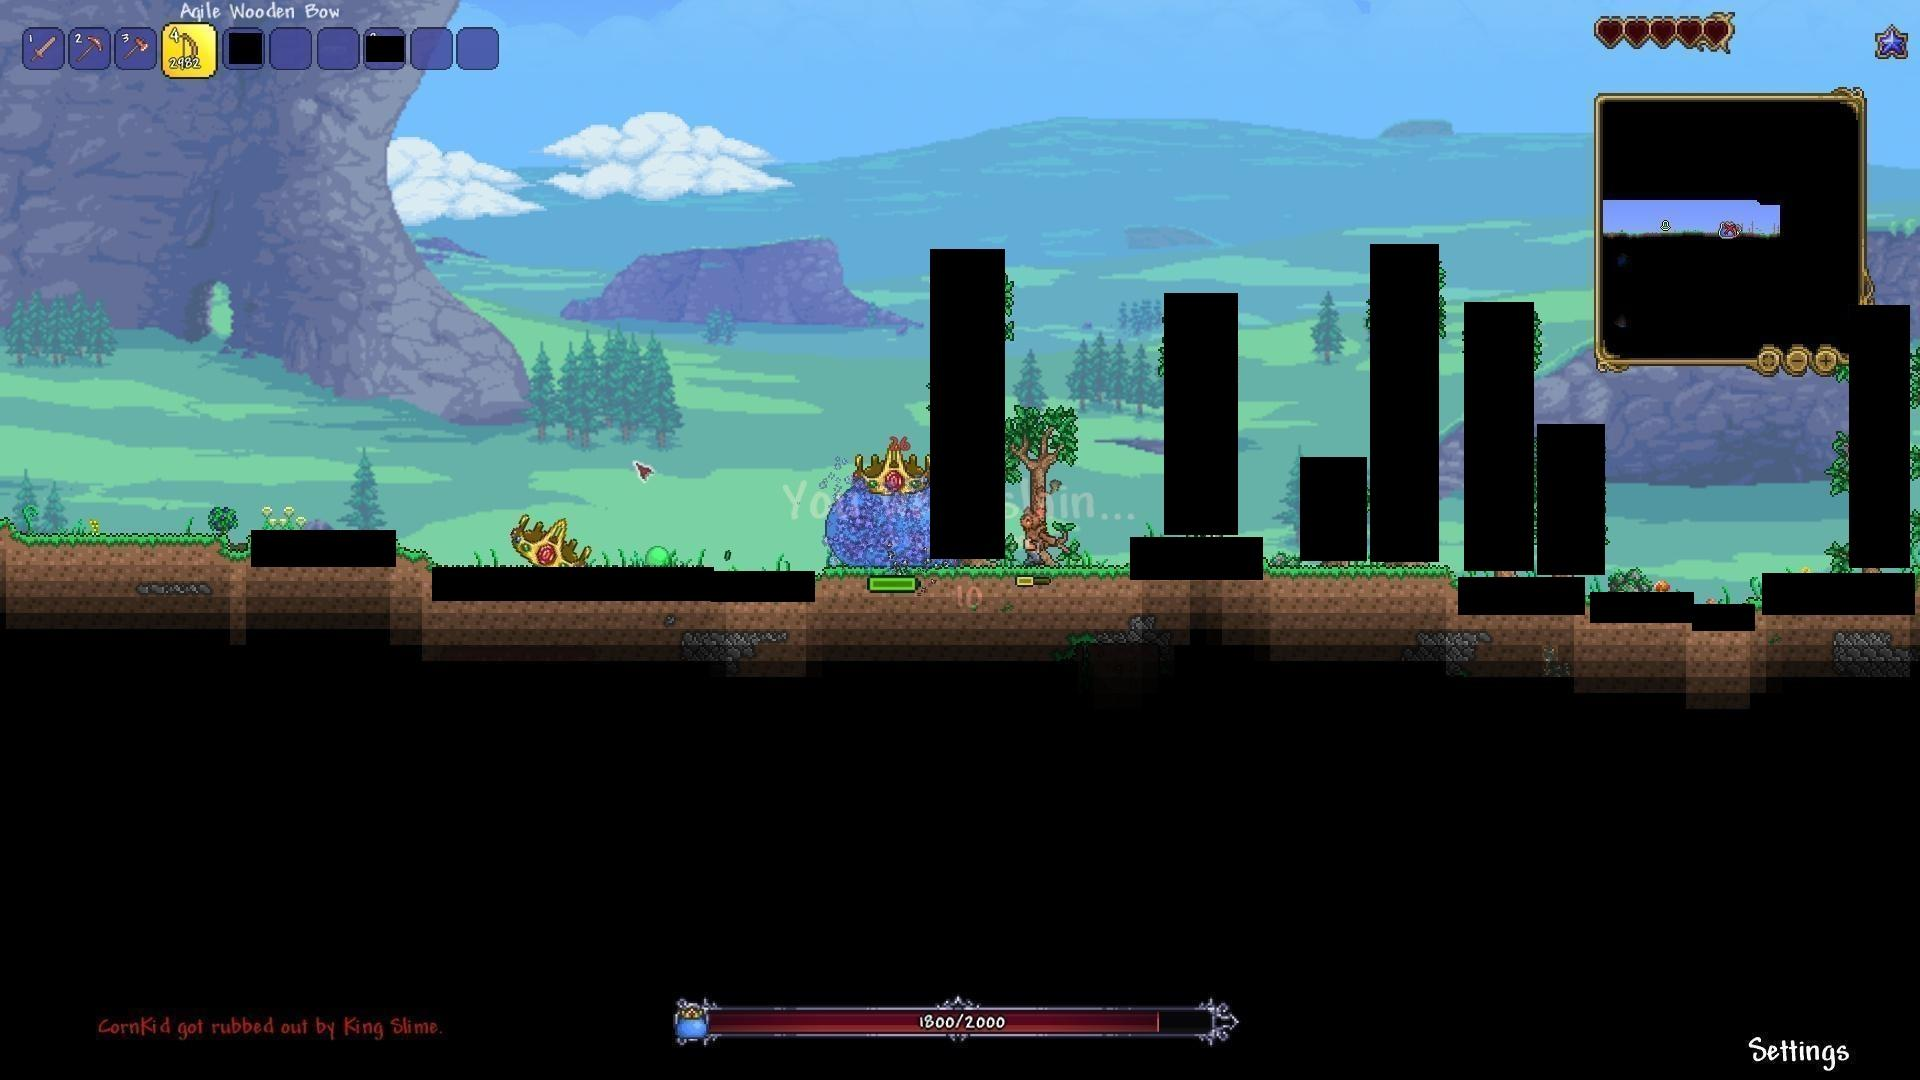dirt: (820, 563, 1126, 608), (0, 513, 229, 568), (1265, 567, 1457, 604), (397, 545, 431, 578)
slime: (646, 546, 675, 567)
tree: (1007, 394, 1083, 560)
